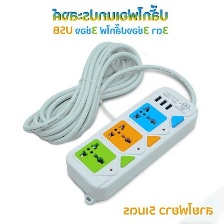three_eye_plug: (64, 84, 200, 201)
